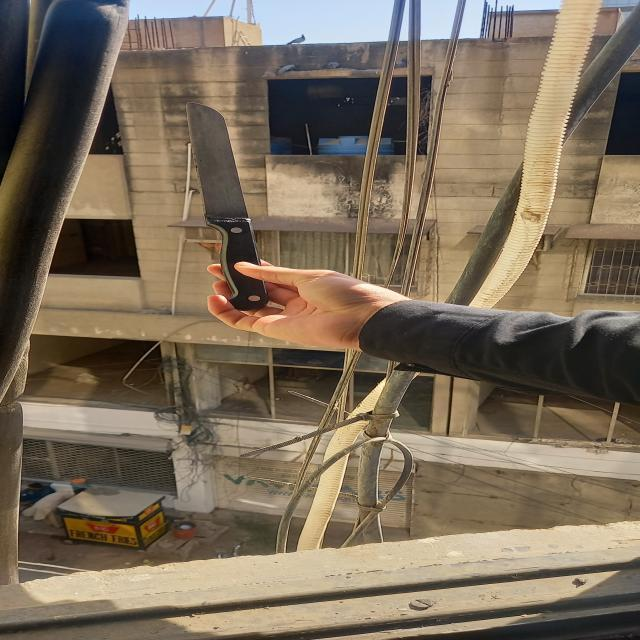Knife: (175, 92, 284, 320)
